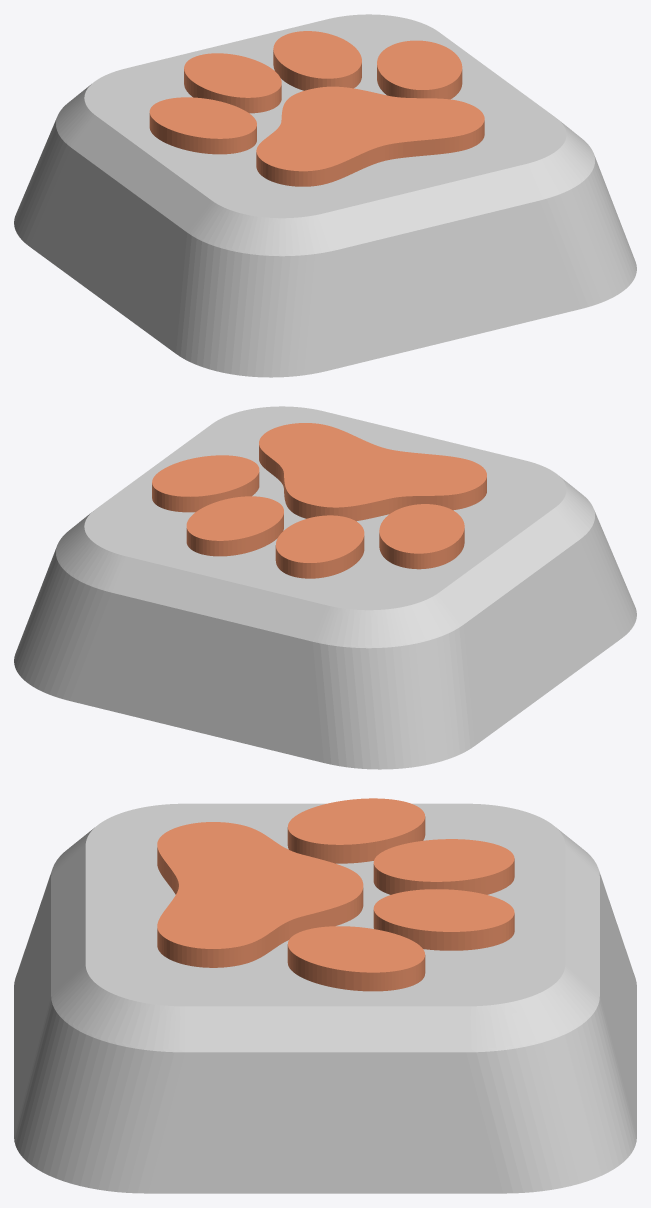
Rendered from cap-paw.glb.
The picture shows the model from 3 angles, top to bottom: view 1: azimuth 30°, elevation 25°; view 2: azimuth 150°, elevation 25°; view 3: azimuth 270°, elevation 25°; orthographic projection. The views are drawn at different scales.
Parts seen in each view (by area): view 1: cap_0, glyph_1; view 2: cap_0, glyph_1; view 3: cap_0, glyph_1.
Part boxes in pixels (<box>): cap_0: <box>14,14,636,377</box>; glyph_1: <box>149,31,484,186</box>; cap_0: <box>14,406,636,769</box>; glyph_1: <box>152,423,486,578</box>; cap_0: <box>14,803,636,1193</box>; glyph_1: <box>157,798,514,991</box>.
Size of the model in its own units: 18 by 5.6 by 18.
